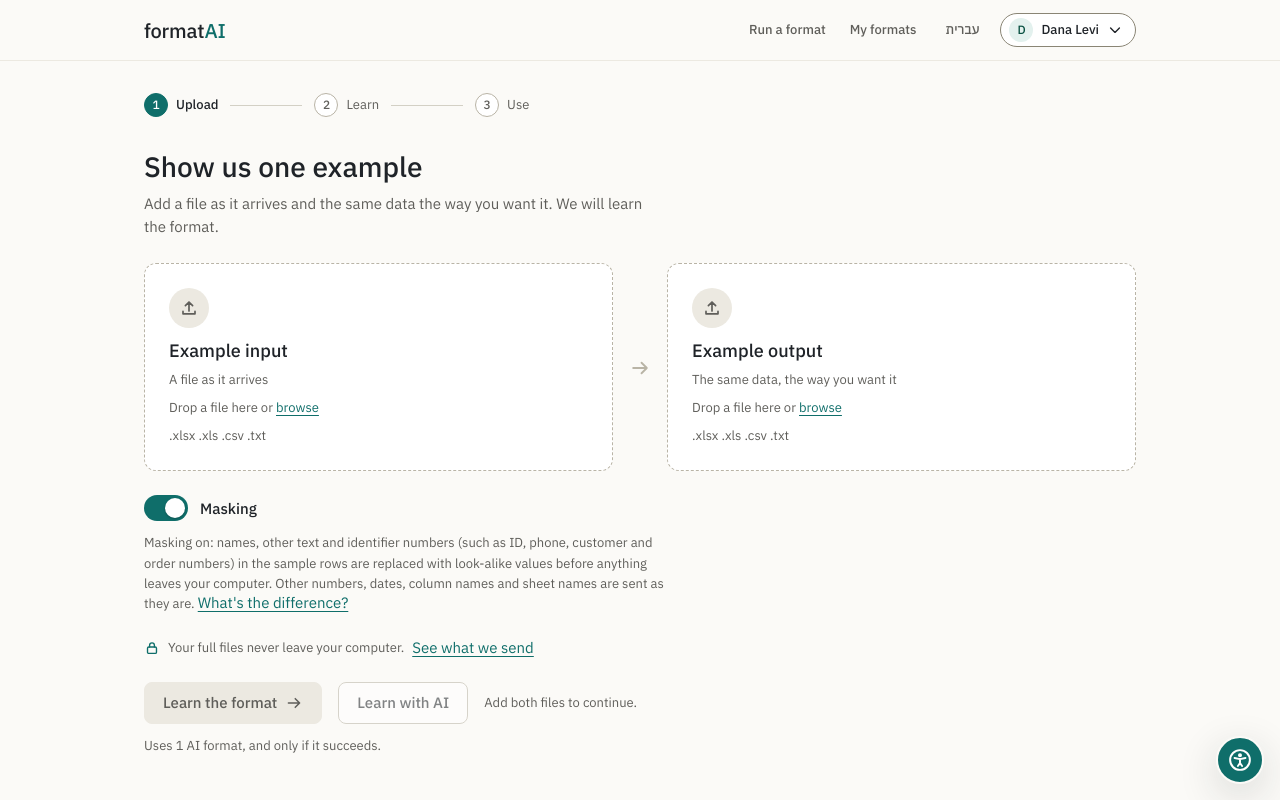
Test: the header › says "no limit" for an unlimited quota, and per day / in total for the other periods
Click the button with aria-label "Account menu for Dana Levi": [1068, 30] box [1000, 13, 1136, 47]
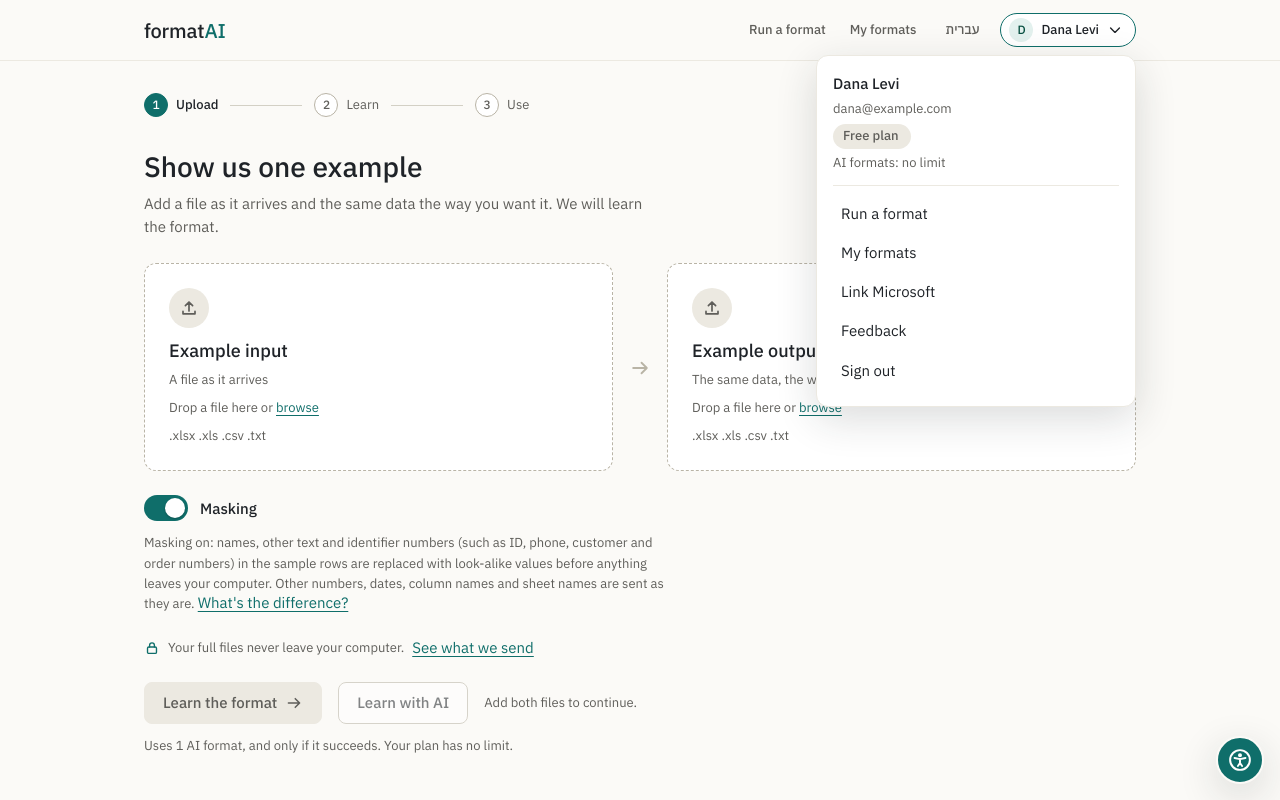
Expected: the element named "Account" shows "AI formats: no limit", [833, 154, 946, 171]
